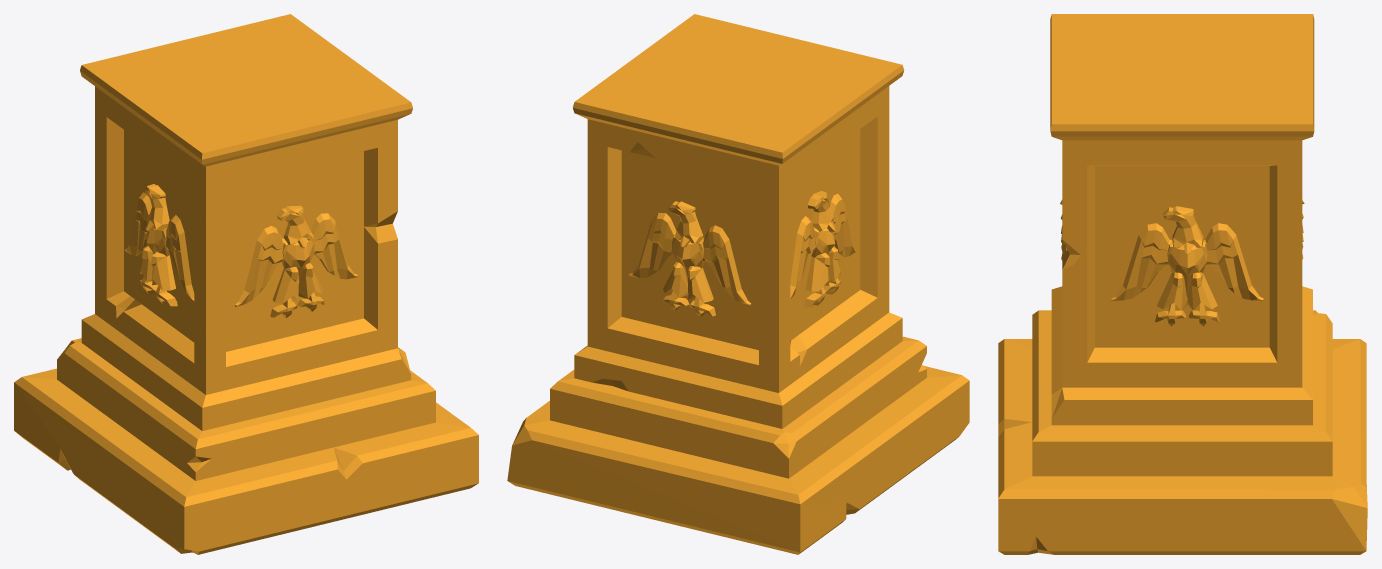
File: SM_Pedestal_Grand_B_Fantasy.fbx
The picture shows the model from 3 angles, left to right: view 1: azimuth 30°, elevation 25°; view 2: azimuth 150°, elevation 25°; view 3: azimuth 270°, elevation 25°; orthographic projection. The views are drawn at different scales.
Parts seen in each view (by area): view 1: SM_Pedestal_Grand_Fantasy_B; view 2: SM_Pedestal_Grand_Fantasy_B; view 3: SM_Pedestal_Grand_Fantasy_B.
Part boxes in pixels (x1=…): SM_Pedestal_Grand_Fantasy_B: x1=14, y1=14, x2=478, y2=554; SM_Pedestal_Grand_Fantasy_B: x1=507, y1=14, x2=969, y2=554; SM_Pedestal_Grand_Fantasy_B: x1=998, y1=14, x2=1367, y2=554.
Bounding box in the file's own units: 1.02 × 1.25 × 1.02.
